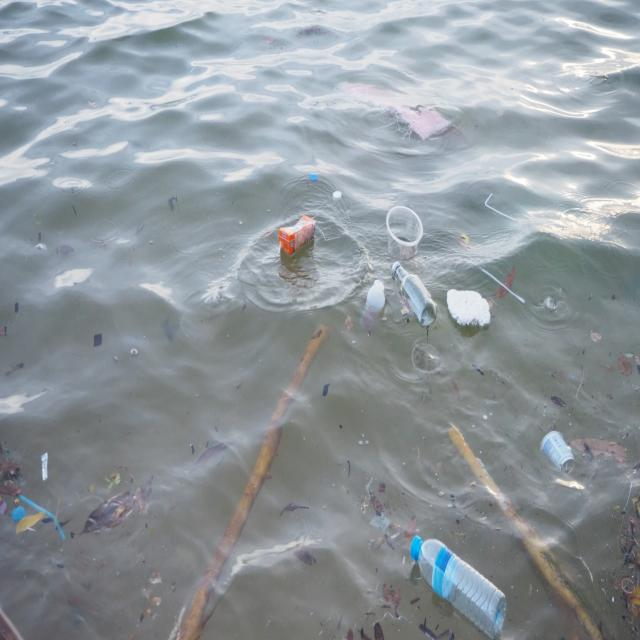foam: (444, 282, 493, 333)
plastic: (406, 532, 514, 640), (389, 259, 439, 329), (355, 278, 387, 336)
plastic bottle: (377, 193, 428, 260), (536, 422, 583, 482)
unknow: (387, 92, 451, 148), (275, 203, 319, 264)
